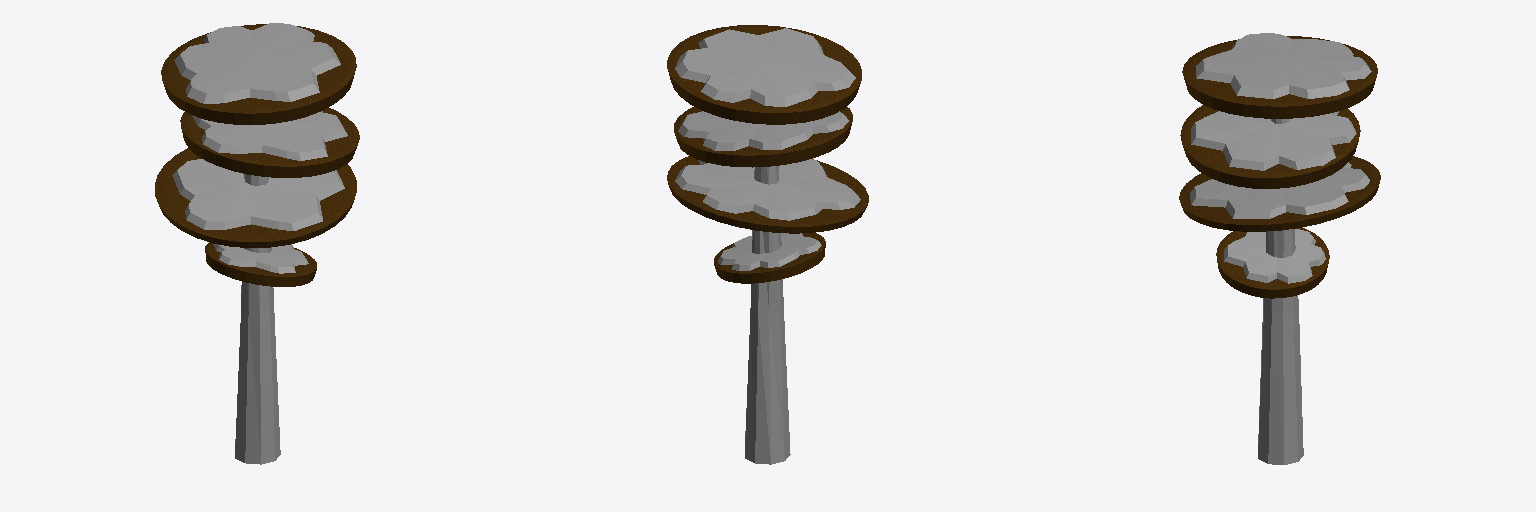
The picture shows the model from 3 angles: view 1: azimuth 30°, elevation 25°; view 2: azimuth 150°, elevation 25°; view 3: azimuth 270°, elevation 25°; orthographic projection.
Visible parts, largest first — view 1: Cylinder.007_Cylinder.008, wood_Cylinder; view 2: Cylinder.007_Cylinder.008, wood_Cylinder; view 3: Cylinder.007_Cylinder.008, wood_Cylinder.
Boxes of the visible parts, x1,y1,x2,y2 form: Cylinder.007_Cylinder.008: [155, 23, 359, 286]; wood_Cylinder: [235, 174, 280, 464]; Cylinder.007_Cylinder.008: [667, 25, 868, 283]; wood_Cylinder: [745, 166, 790, 464]; Cylinder.007_Cylinder.008: [1179, 33, 1380, 298]; wood_Cylinder: [1258, 119, 1303, 464].
Bounding box in the file's own units: 1.44 × 3.1 × 1.43.
3 materials, 1 textured.